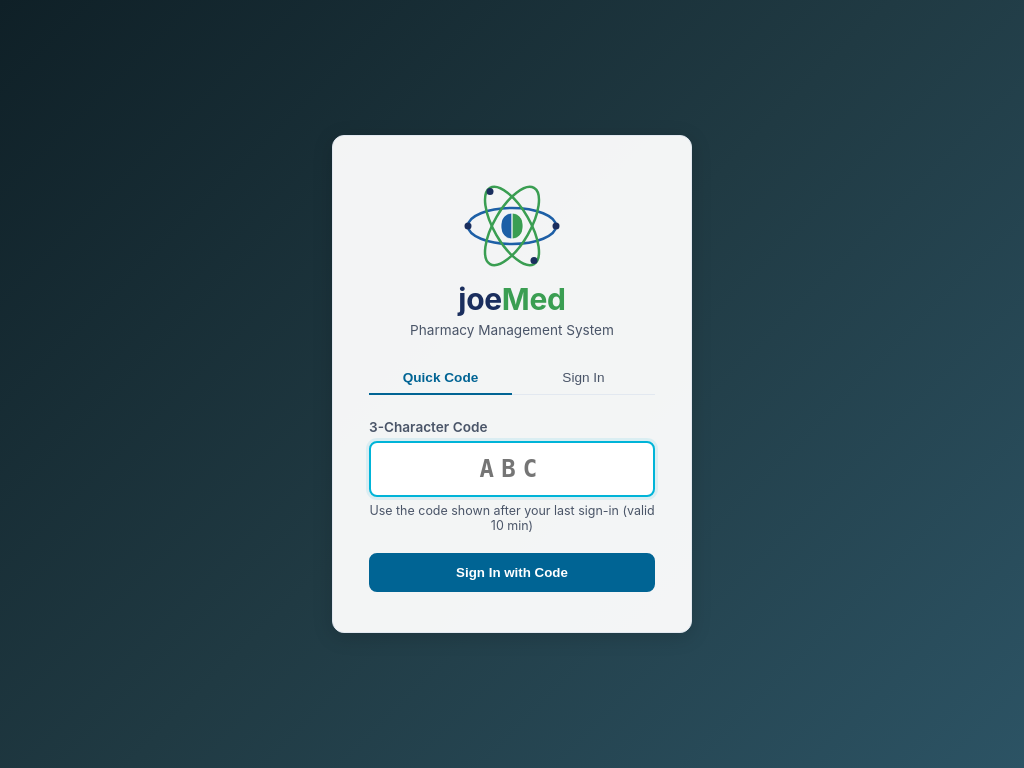
LoginForm › shows an error message when login fails
Click the button "Sign In": (584, 378) [512,362,655,395]
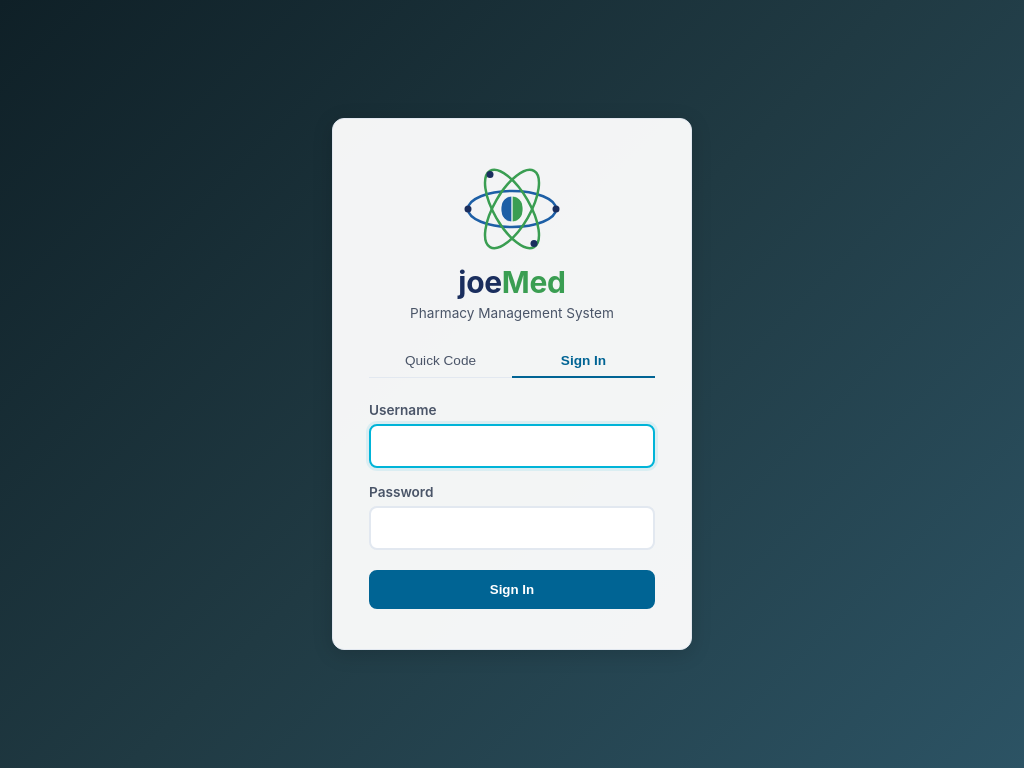
In the field: (512, 446) [369,424,655,468], type "baduser"
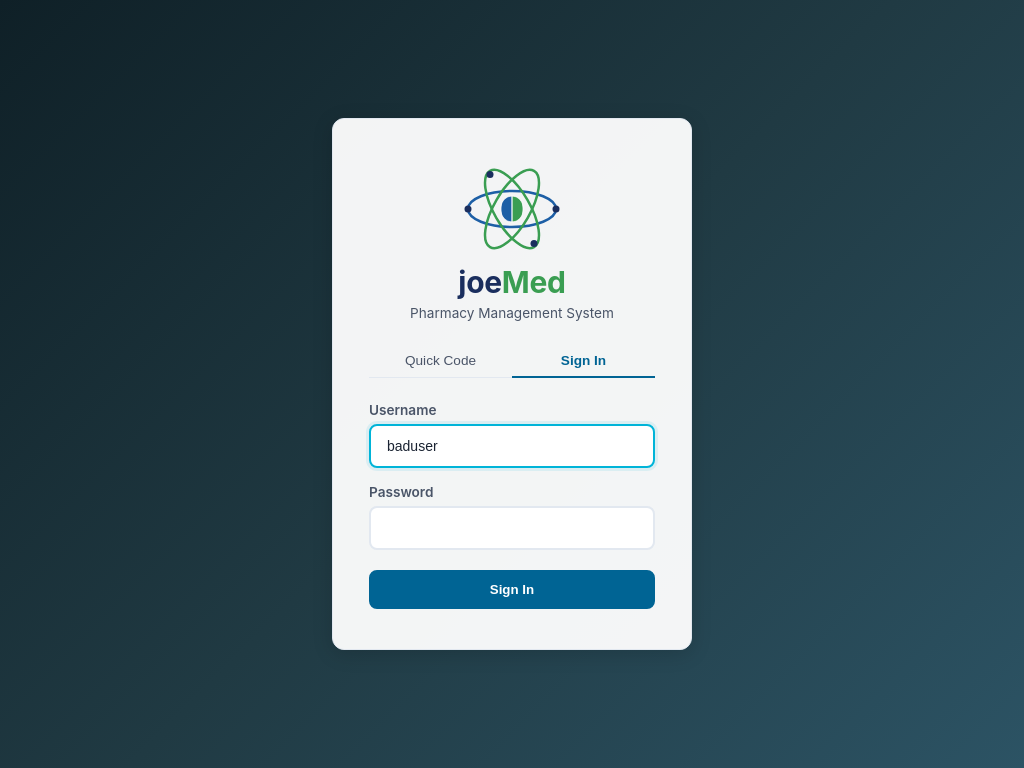
In the password field: (512, 528) [369,506,655,550], type "wrong"
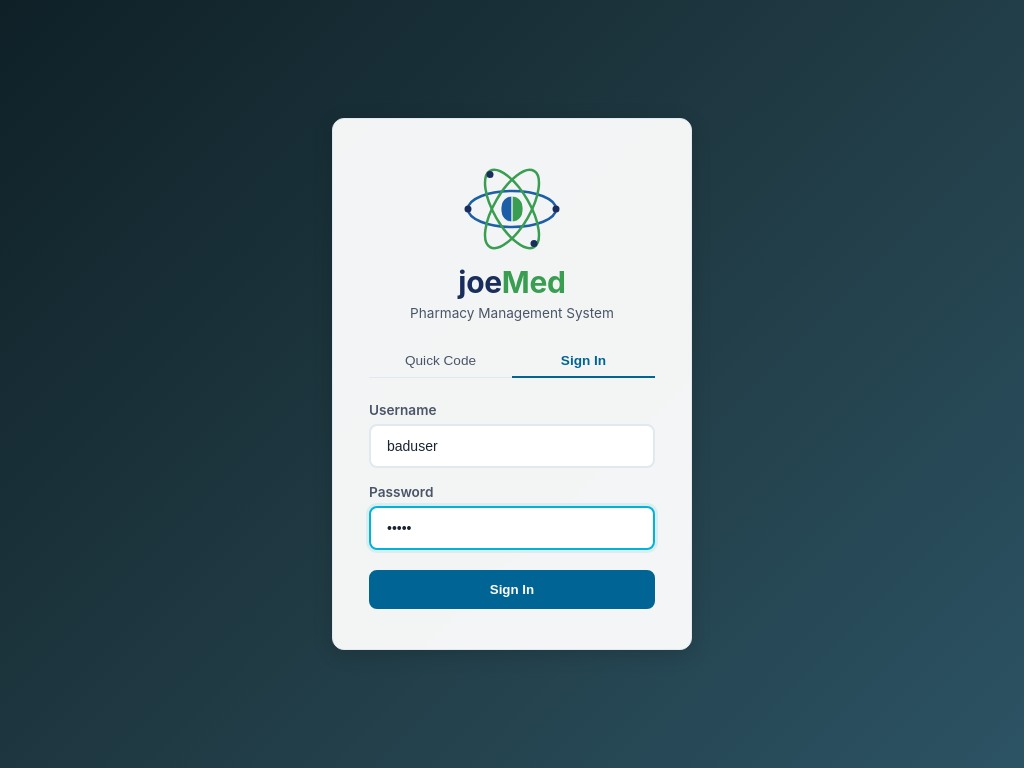
Click the submit button: (512, 590) [369,570,655,609]
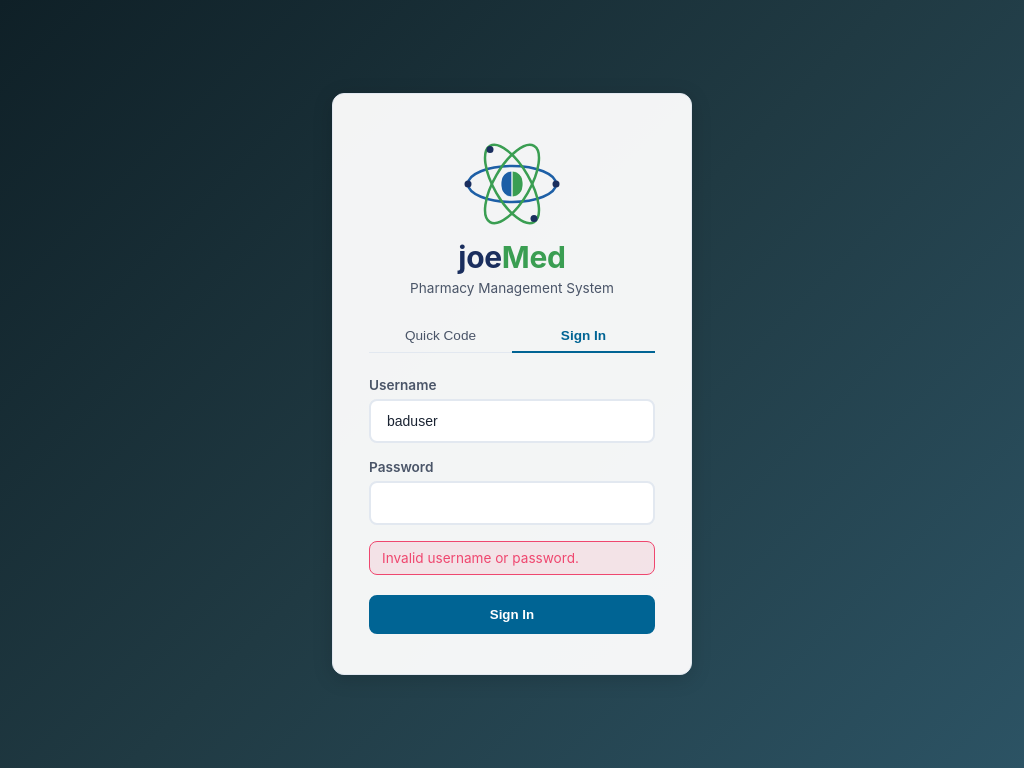
Result: the text "Invalid username or password." is shown at [369,541,655,575]
